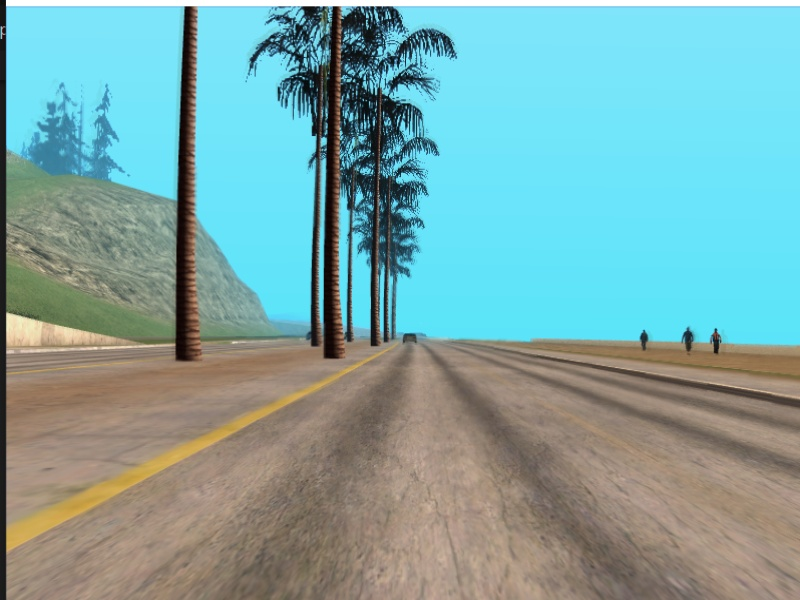person: (679, 328, 697, 354), (708, 328, 726, 354), (640, 328, 649, 353)
tree: (172, 7, 207, 365), (323, 9, 348, 359), (369, 96, 385, 349), (309, 68, 323, 349), (346, 196, 356, 344)
vehicle: (401, 332, 417, 346)
